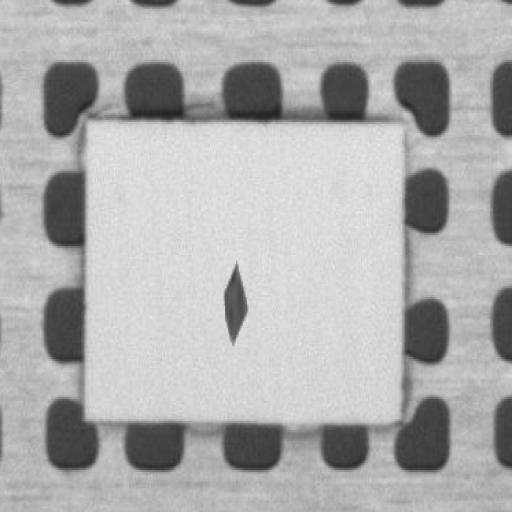DIE_INK: (292, 182, 332, 268)
